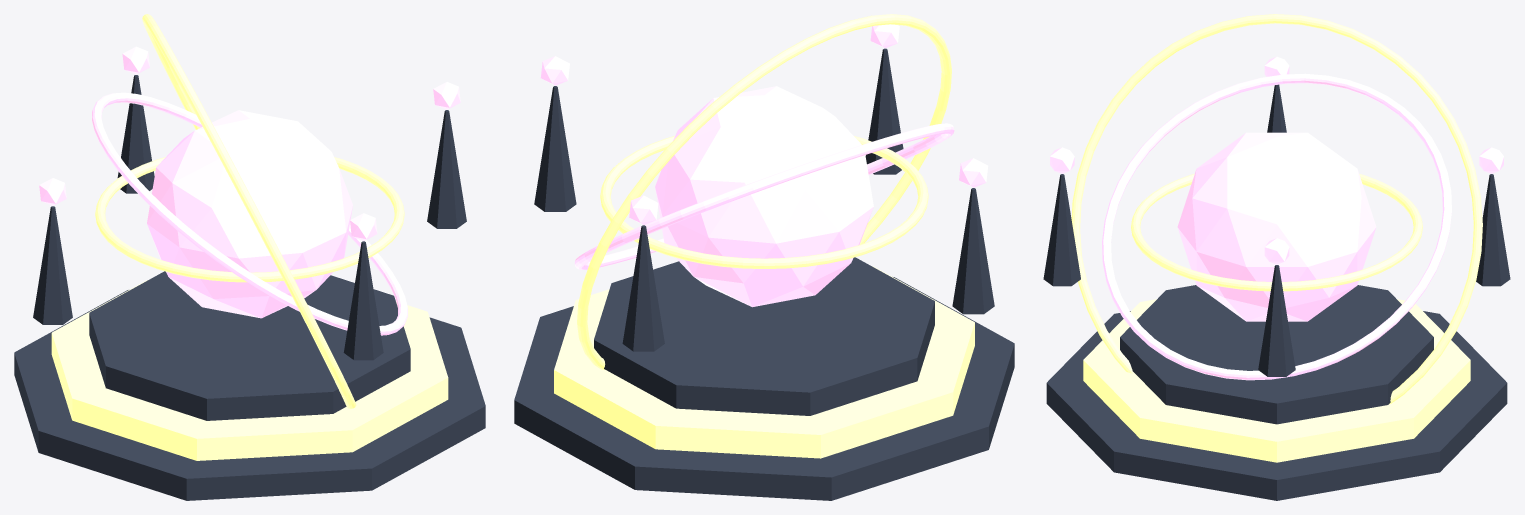
Rendered from gpu-blender-v22.glb.
The picture shows the model from 3 angles, left to right: view 1: azimuth 30°, elevation 25°; view 2: azimuth 150°, elevation 25°; view 3: azimuth 270°, elevation 25°; orthographic projection. The views are drawn at different scales.
Parts seen in each view (by area): view 1: Cylinder.002, SovereignCore_digital-asset-forge, Cylinder, Cylinder.001, Torus.001, Torus.002, Torus, Cone.003, Cone, Cone.002, Cone.001, Icosphere.002 (+3 smaller); view 2: Cylinder.002, SovereignCore_digital-asset-forge, Cylinder, Cylinder.001, Torus.002, Torus, Torus.001, Cone.002, Cone.001, Cone, Cone.003, Icosphere (+3 smaller); view 3: SovereignCore_digital-asset-forge, Cylinder.002, Cylinder, Cylinder.001, Torus.001, Torus.002, Torus, Cone.003, Cone, Cone.001, Cone.002, Icosphere (+2 smaller).
Part boxes in pixels (x1,y1,x2,y2): Cylinder.002: [89, 271, 410, 420]; SovereignCore_digital-asset-forge: [147, 110, 352, 318]; Cylinder: [14, 290, 485, 500]; Cylinder.001: [51, 280, 448, 460]; Torus.001: [92, 92, 407, 335]; Torus.002: [142, 14, 356, 408]; Torus: [95, 157, 404, 282]; Cone.003: [343, 241, 383, 360]; Cone: [427, 110, 466, 228]; Cone.002: [33, 206, 72, 324]; Cone.001: [117, 75, 154, 193]; Icosphere.002: [39, 178, 66, 205]; Cylinder.002: [594, 257, 934, 415]; SovereignCore_digital-asset-forge: [655, 86, 873, 307]; Cylinder: [514, 277, 1014, 500]; Cylinder.001: [554, 266, 974, 458]; Torus.002: [577, 14, 951, 369]; Torus: [600, 136, 928, 268]; Torus.001: [574, 123, 954, 269]; Cone.002: [952, 188, 994, 314]; Cone.001: [622, 225, 664, 351]; Cone: [534, 86, 576, 211]; Cone.003: [865, 48, 903, 174]; Icosphere: [540, 56, 569, 85]; SovereignCore_digital-asset-forge: [1177, 132, 1376, 321]; Cylinder.002: [1120, 285, 1433, 424]; Cylinder: [1046, 311, 1507, 500]; Cylinder.001: [1083, 299, 1470, 462]; Torus.001: [1102, 73, 1451, 380]; Torus.002: [1071, 14, 1482, 403]; Torus: [1131, 174, 1422, 291]; Cone.003: [1043, 174, 1080, 286]; Cone: [1258, 265, 1295, 376]; Cone.001: [1476, 174, 1510, 286]; Cone.002: [1267, 84, 1286, 132]; Icosphere: [1264, 238, 1289, 264].
Size of the model in its own units: 4.41 by 3.72 by 4.46.
